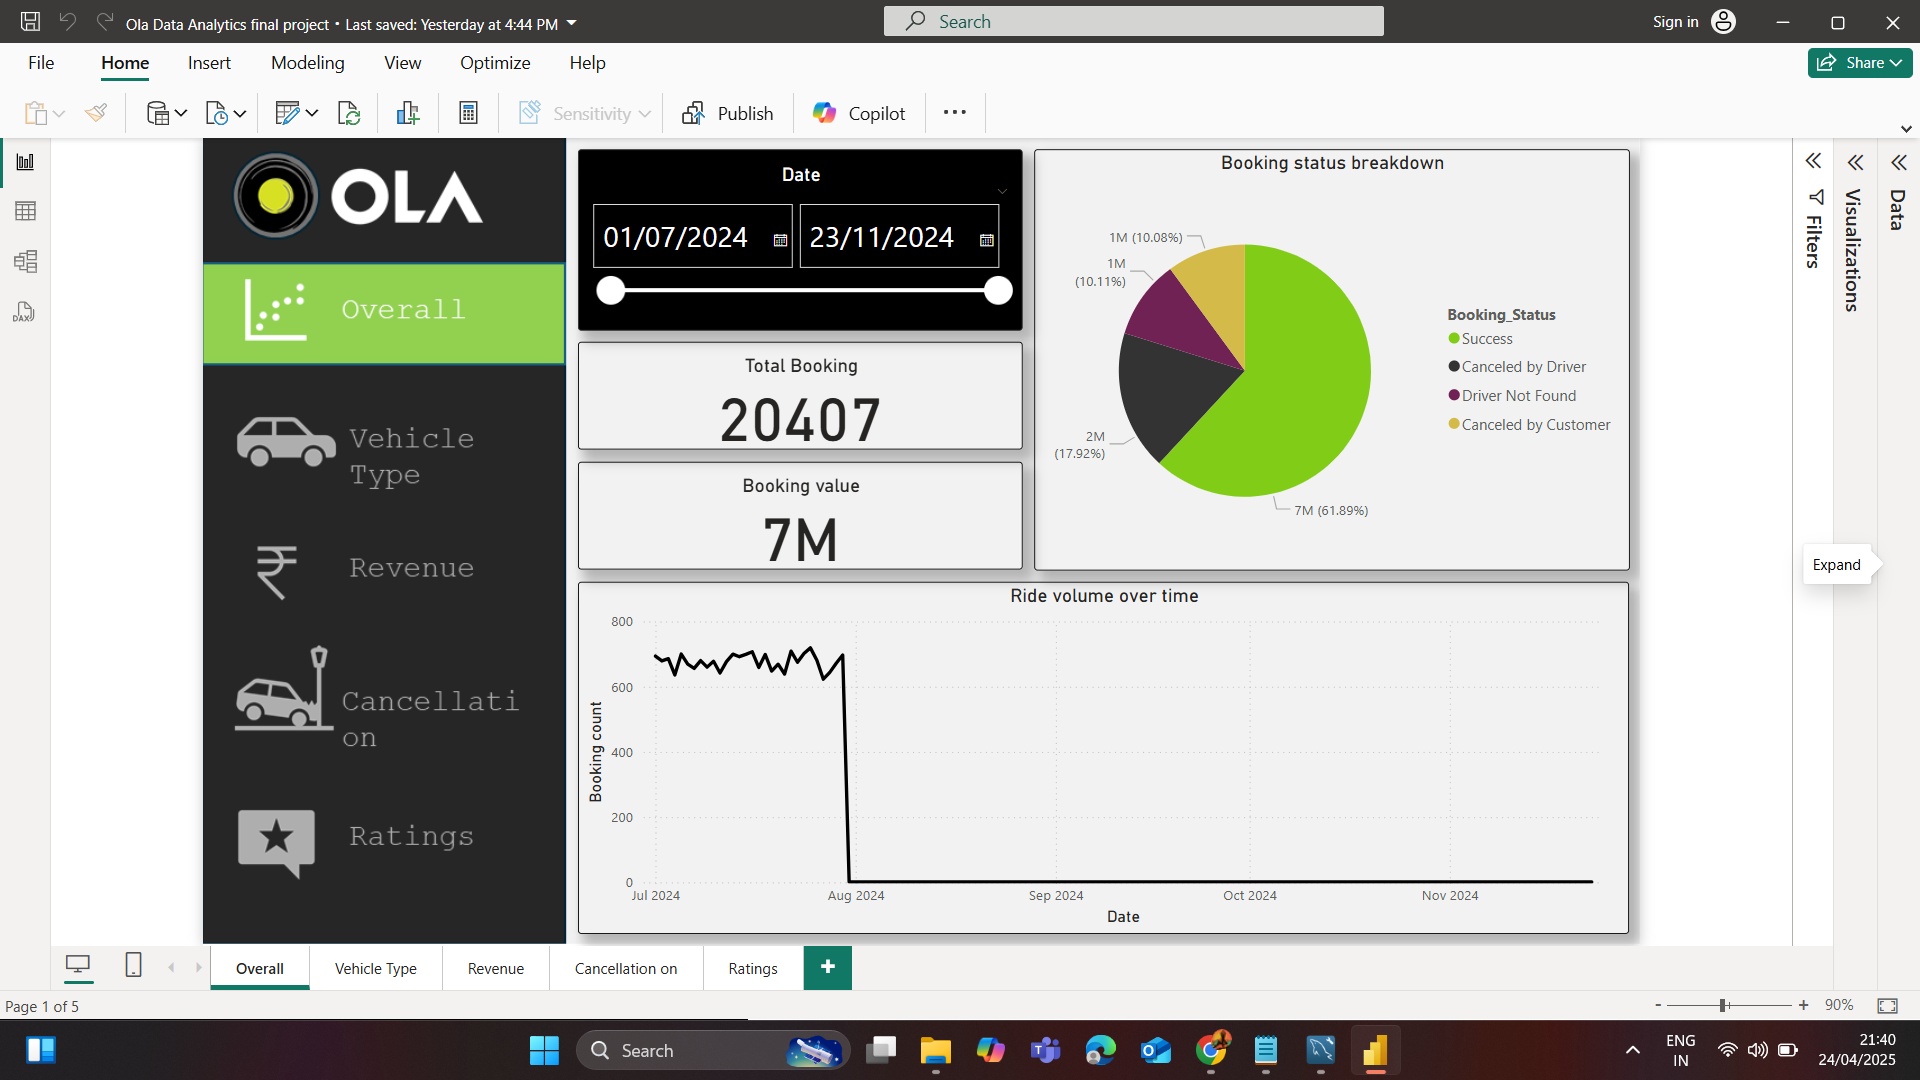

Layout of this report page (visuals, bound fields, positions):
{"tool":"powerbi","page":{"name":"Overall","canvas":[1280,720],"ordinal":0},"visuals":[{"type":"actionButton","box":[0,581.5,324.5,89.3],"z":0},{"type":"actionButton","box":[0,232.8,324.5,89.3],"z":1000},{"type":"actionButton","box":[0,340.2,324.5,89.3],"z":2000},{"type":"actionButton","box":[0,451.2,324.5,89.3],"z":3000},{"type":"lineChart","title":"Ride volume over time","fields":{"Category":["ola1.Date"],"Y":["ola1.Booking_ID"]},"box":[333.8,395,936.2,313.8],"z":4000},{"type":"pieChart","title":"Booking status breakdown","fields":{"Category":["ola1.Booking_Status"],"Y":["ola1.Booking_Value"]},"box":[740,10,530,375],"z":5000},{"type":"slicer","title":"Date","fields":{"Values":["ola1.Date"]},"box":[333.8,10,396.2,161.2],"z":6000},{"type":"card","title":"Total Booking","fields":{"Values":["ola1.Booking_ID"]},"box":[333.8,181.2,396.2,96.2],"z":7000},{"type":"card","title":"Booking value","fields":{"Values":["ola1.Booking_Value"]},"box":[333.8,288.8,396.2,96.2],"z":8000}]}

Visuals, with their boxes on the page's 1280x720 design canvas (x1, y1, x2, y2). These are canvas units, not pixel positions in the 1920x1080 screenshot, which may show the page scaled, cropped or inside an application window:
actionButton: bbox(0, 582, 324, 671)
actionButton: bbox(0, 233, 324, 322)
actionButton: bbox(0, 340, 324, 430)
actionButton: bbox(0, 451, 324, 540)
"Ride volume over time" lineChart: bbox(334, 395, 1270, 709)
"Booking status breakdown" pieChart: bbox(740, 10, 1270, 385)
"Date" slicer: bbox(334, 10, 730, 171)
"Total Booking" card: bbox(334, 181, 730, 277)
"Booking value" card: bbox(334, 289, 730, 385)
